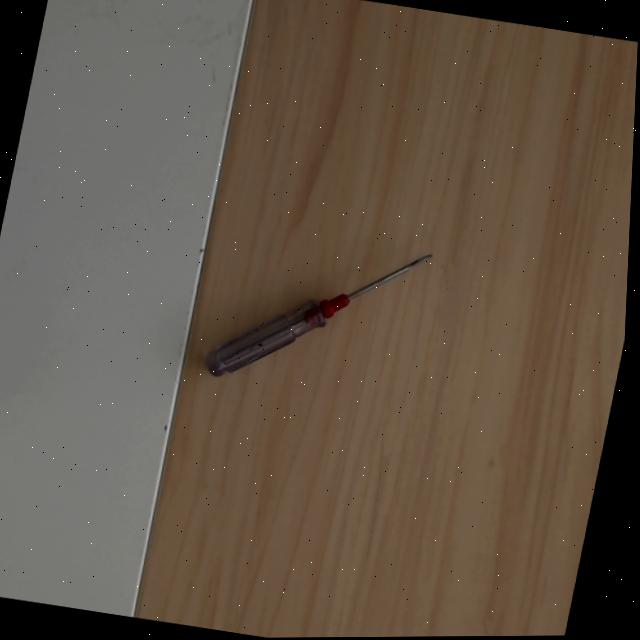Obeng-Kecil: (199, 243, 437, 382)
